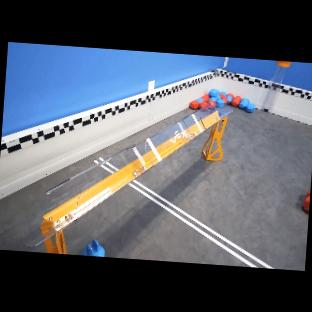Parking - Part: (23, 106, 231, 253)
